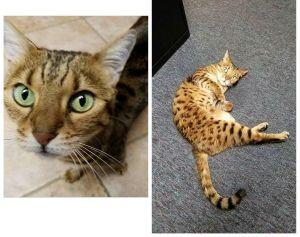bengal: (1, 13, 147, 172)
